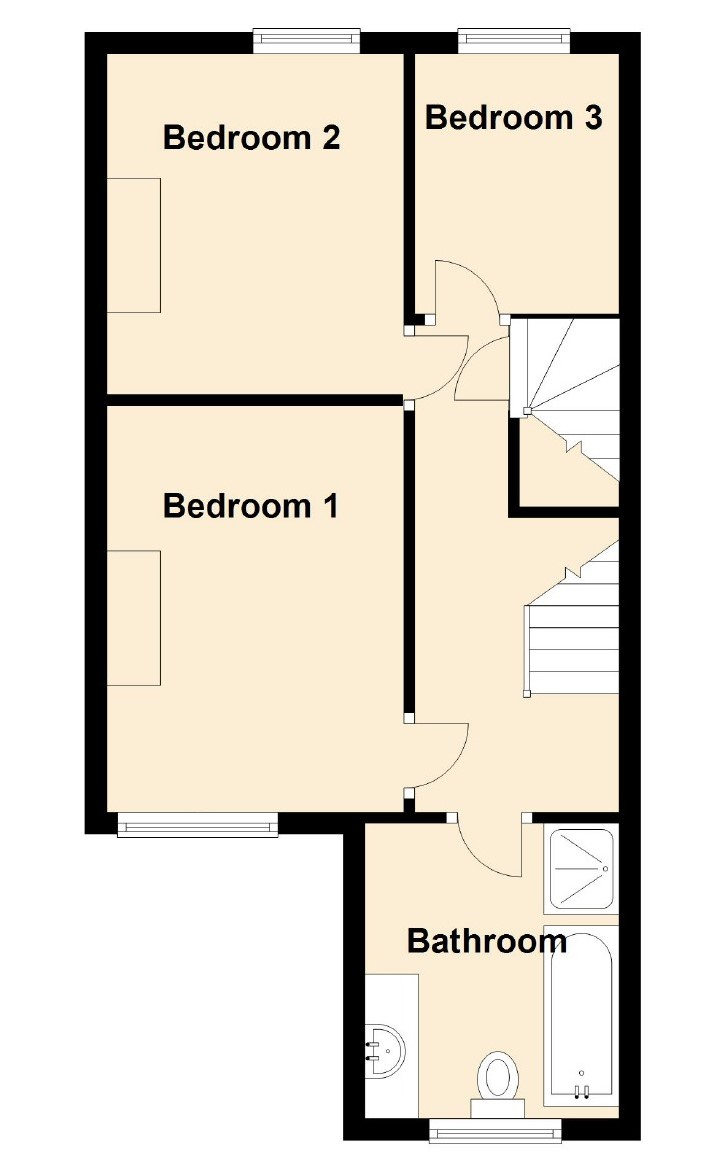room: (84, 390, 426, 827), (81, 32, 421, 407), (345, 809, 645, 1141), (403, 32, 645, 328)
